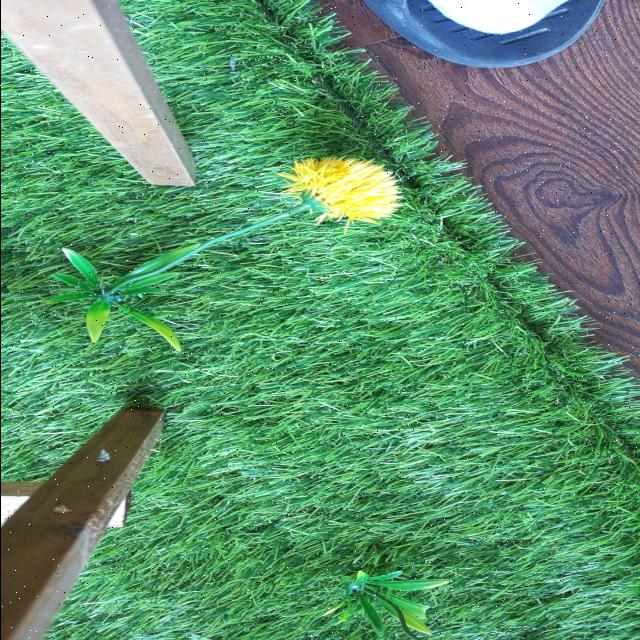base: (45, 242, 204, 350), (337, 568, 447, 636)
flower: (288, 158, 400, 224)
